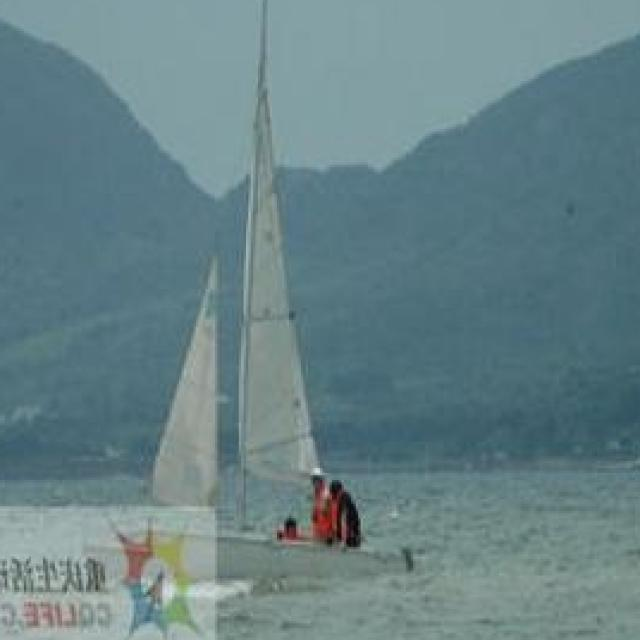sailboat: (105, 0, 409, 580)
